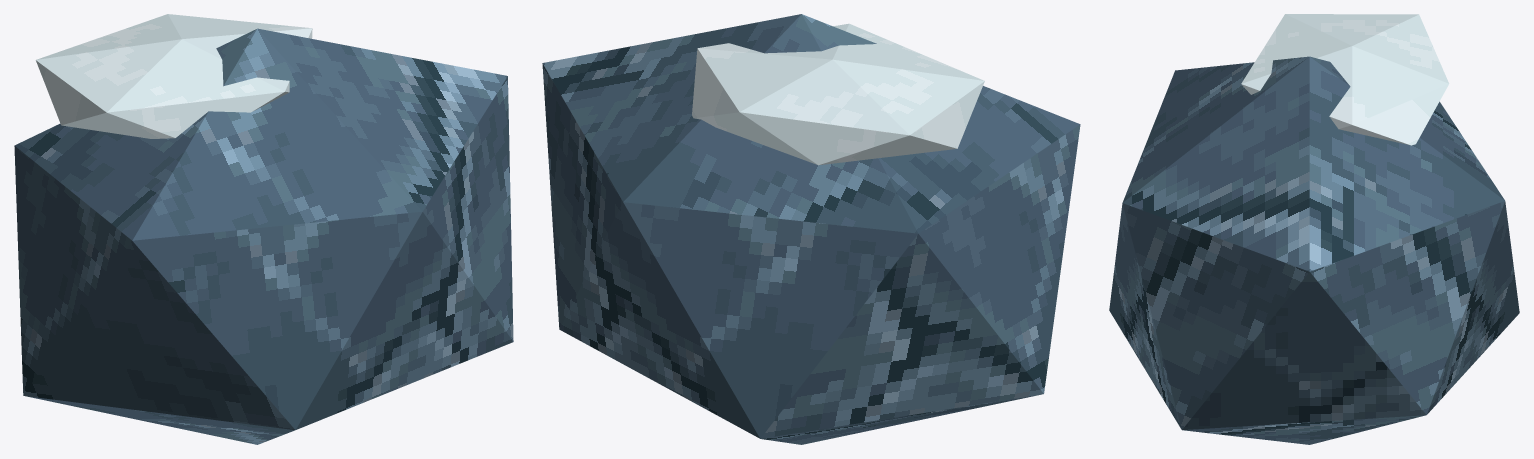
Rendered from pedra.glb.
3 views of the same model, side by side, from view 1: azimuth 30°, elevation 25°; view 2: azimuth 150°, elevation 25°; view 3: azimuth 270°, elevation 25° (orthographic). The views are drawn at different scales.
Parts seen in each view (by area): view 1: neve_pedra; view 2: neve_pedra; view 3: neve_pedra.
Boxes of the visible parts, <box> form: neve_pedra: <box>14,14,513,444</box>; neve_pedra: <box>542,14,1080,444</box>; neve_pedra: <box>1109,14,1519,444</box>.
Bounding box in the file's own units: 0.7353 × 0.6037 × 0.5782.
Materials: 2 (2 with a texture image).
